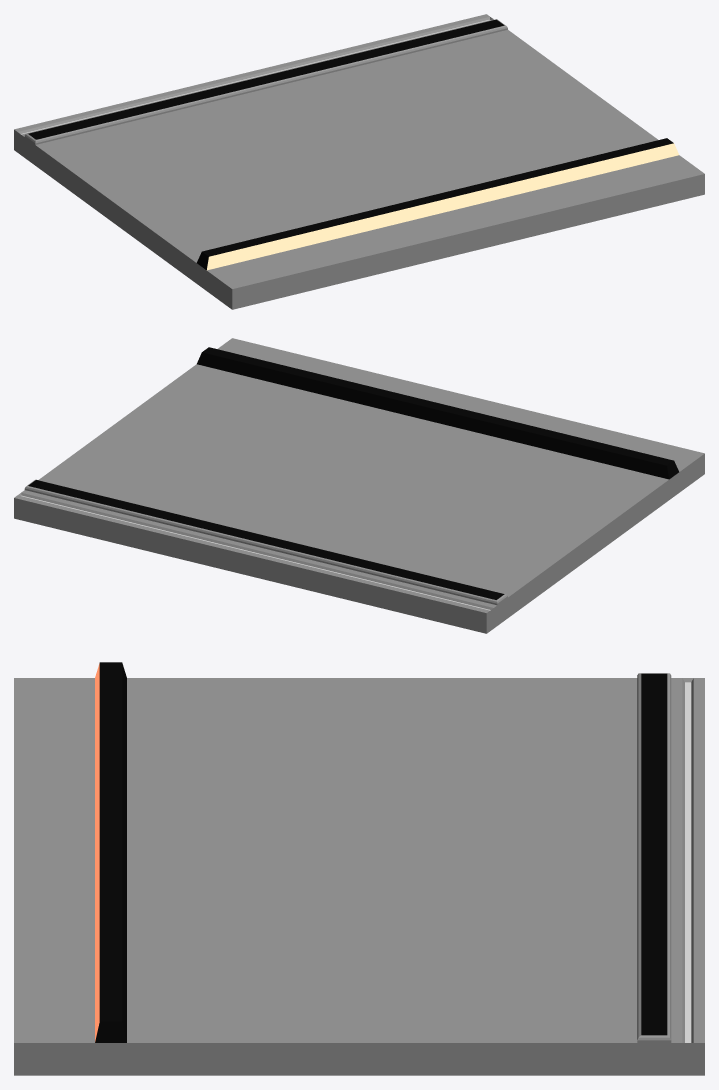
Rendered from panel_5 1.fbx.
3 views of the same model, one above another, from view 1: azimuth 30°, elevation 25°; view 2: azimuth 150°, elevation 25°; view 3: azimuth 270°, elevation 25° (orthographic). The views are drawn at different scales.
Parts seen in each view (by area): view 1: PANEL_1; view 2: PANEL_1; view 3: PANEL_1.
Boxes of the visible parts, bbox=[...] form: PANEL_1: bbox=[14, 14, 704, 309]; PANEL_1: bbox=[14, 338, 704, 633]; PANEL_1: bbox=[14, 662, 704, 1075].
Bounding box in the file's own units: 286 × 18.73 × 229.
